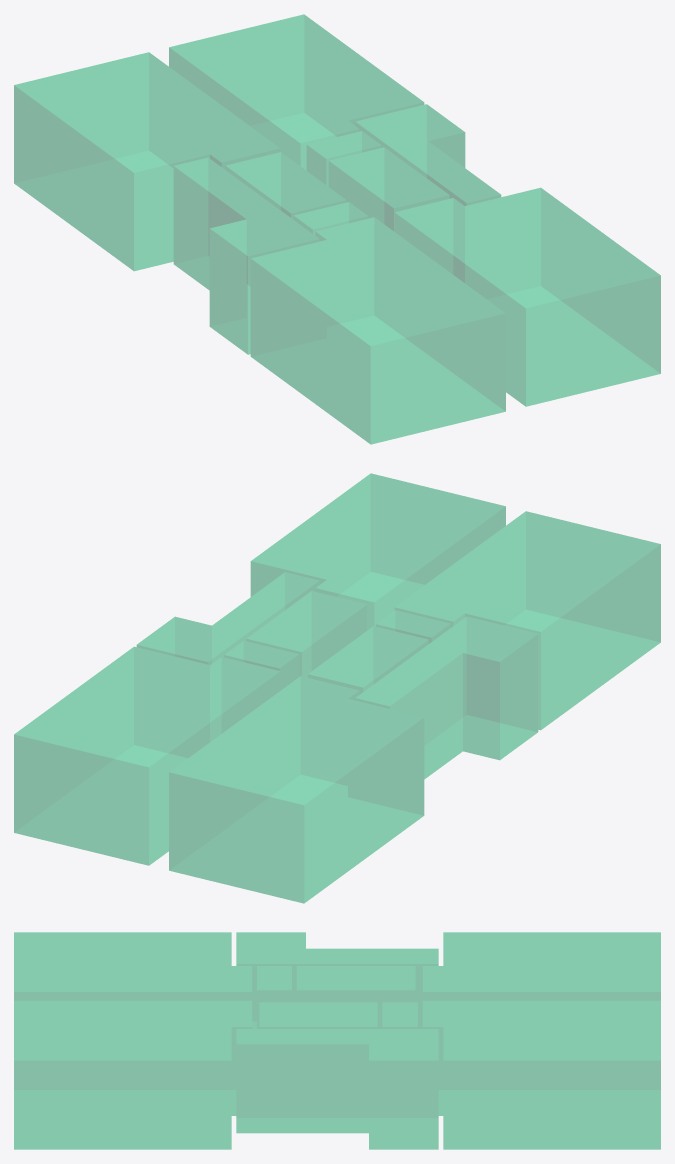
The model's file is Plumbing and Heating_Level_2_IfcSpace.dae.
3 views of the same model, one above another, from view 1: azimuth 30°, elevation 25°; view 2: azimuth 150°, elevation 25°; view 3: azimuth 270°, elevation 25° (orthographic). The views are drawn at different scales.
Visible parts, largest first — view 1: 0CRPz_SEr94Ah74P8LhwL0, 3YWx8nQAj0DhPfgLl9dDei, 0CRPz_SEr94Ah74P8LhwKx, 3YWx8nQAj0DhPfgLl9dDeO, 0CRPz_SEr94Ah74P8LhwK$, 3YWx8nQAj0DhPfgLl9dDeh, 0CRPz_SEr94Ah74P8LhwKy, 3YWx8nQAj0DhPfgLl9dDeT, 0CRPz_SEr94Ah74P8LhwKz, 3YWx8nQAj0DhPfgLl9dDeH, 0CRPz_SEr94Ah74P8LhwKv, 3YWx8nQAj0DhPfgLl9dDeU (+8 smaller); view 2: 0CRPz_SEr94Ah74P8LhwK$, 3YWx8nQAj0DhPfgLl9dDeh, 0CRPz_SEr94Ah74P8LhwKy, 3YWx8nQAj0DhPfgLl9dDeT, 0CRPz_SEr94Ah74P8LhwL0, 3YWx8nQAj0DhPfgLl9dDei, 0CRPz_SEr94Ah74P8LhwKx, 3YWx8nQAj0DhPfgLl9dDeO, 0CRPz_SEr94Ah74P8LhwKz, 3YWx8nQAj0DhPfgLl9dDeH, 0CRPz_SEr94Ah74P8LhwKv, 3YWx8nQAj0DhPfgLl9dDeU (+8 smaller); view 3: 0CRPz_SEr94Ah74P8LhwKy, 0CRPz_SEr94Ah74P8LhwKx, 3YWx8nQAj0DhPfgLl9dDeO, 3YWx8nQAj0DhPfgLl9dDeT, 0CRPz_SEr94Ah74P8LhwKv, 3YWx8nQAj0DhPfgLl9dDeU, 0CRPz_SEr94Ah74P8LhwL0, 0CRPz_SEr94Ah74P8LhwK$, 3YWx8nQAj0DhPfgLl9dDeh, 3YWx8nQAj0DhPfgLl9dDei, 0CRPz_SEr94Ah74P8LhwKz, 3YWx8nQAj0DhPfgLl9dDeH (+8 smaller).
Part boxes in pixels (x1,y1,x2,y2): 0CRPz_SEr94Ah74P8LhwL0: [251, 217, 505, 443]; 3YWx8nQAj0DhPfgLl9dDei: [251, 217, 505, 443]; 0CRPz_SEr94Ah74P8LhwKx: [395, 188, 660, 406]; 3YWx8nQAj0DhPfgLl9dDeO: [395, 188, 660, 405]; 0CRPz_SEr94Ah74P8LhwK$: [14, 52, 279, 270]; 3YWx8nQAj0DhPfgLl9dDeh: [14, 53, 279, 270]; 0CRPz_SEr94Ah74P8LhwKy: [169, 15, 423, 169]; 3YWx8nQAj0DhPfgLl9dDeT: [169, 15, 423, 169]; 0CRPz_SEr94Ah74P8LhwKz: [174, 158, 319, 354]; 3YWx8nQAj0DhPfgLl9dDeH: [174, 158, 318, 354]; 0CRPz_SEr94Ah74P8LhwKv: [355, 104, 500, 205]; 3YWx8nQAj0DhPfgLl9dDeU: [356, 104, 500, 205]; 0CRPz_SEr94Ah74P8LhwK$: [169, 676, 423, 902]; 3YWx8nQAj0DhPfgLl9dDeh: [169, 676, 423, 902]; 0CRPz_SEr94Ah74P8LhwKy: [14, 647, 279, 865]; 3YWx8nQAj0DhPfgLl9dDeT: [14, 647, 279, 864]; 0CRPz_SEr94Ah74P8LhwL0: [395, 511, 660, 729]; 3YWx8nQAj0DhPfgLl9dDei: [395, 512, 660, 729]; 0CRPz_SEr94Ah74P8LhwKx: [251, 474, 505, 629]; 3YWx8nQAj0DhPfgLl9dDeO: [251, 474, 505, 629]; 0CRPz_SEr94Ah74P8LhwKz: [355, 617, 537, 778]; 3YWx8nQAj0DhPfgLl9dDeH: [356, 617, 537, 778]; 0CRPz_SEr94Ah74P8LhwKv: [137, 572, 319, 664]; 3YWx8nQAj0DhPfgLl9dDeU: [137, 572, 318, 664]; 0CRPz_SEr94Ah74P8LhwKy: [423, 1001, 660, 1149]; 0CRPz_SEr94Ah74P8LhwKx: [14, 1001, 251, 1149]; 3YWx8nQAj0DhPfgLl9dDeO: [14, 1001, 251, 1148]; 3YWx8nQAj0DhPfgLl9dDeT: [423, 1001, 660, 1148]; 0CRPz_SEr94Ah74P8LhwKv: [236, 1029, 438, 1149]; 3YWx8nQAj0DhPfgLl9dDeU: [237, 1029, 437, 1148]; 0CRPz_SEr94Ah74P8LhwL0: [14, 932, 251, 1000]; 0CRPz_SEr94Ah74P8LhwK$: [423, 932, 660, 1000]; 3YWx8nQAj0DhPfgLl9dDeh: [423, 933, 660, 999]; 3YWx8nQAj0DhPfgLl9dDei: [14, 933, 251, 999]; 0CRPz_SEr94Ah74P8LhwKz: [236, 932, 438, 1028]; 3YWx8nQAj0DhPfgLl9dDeH: [237, 933, 437, 1028].
Bounding box in the file's own units: 7.97 × 16.97 × 2.59.
